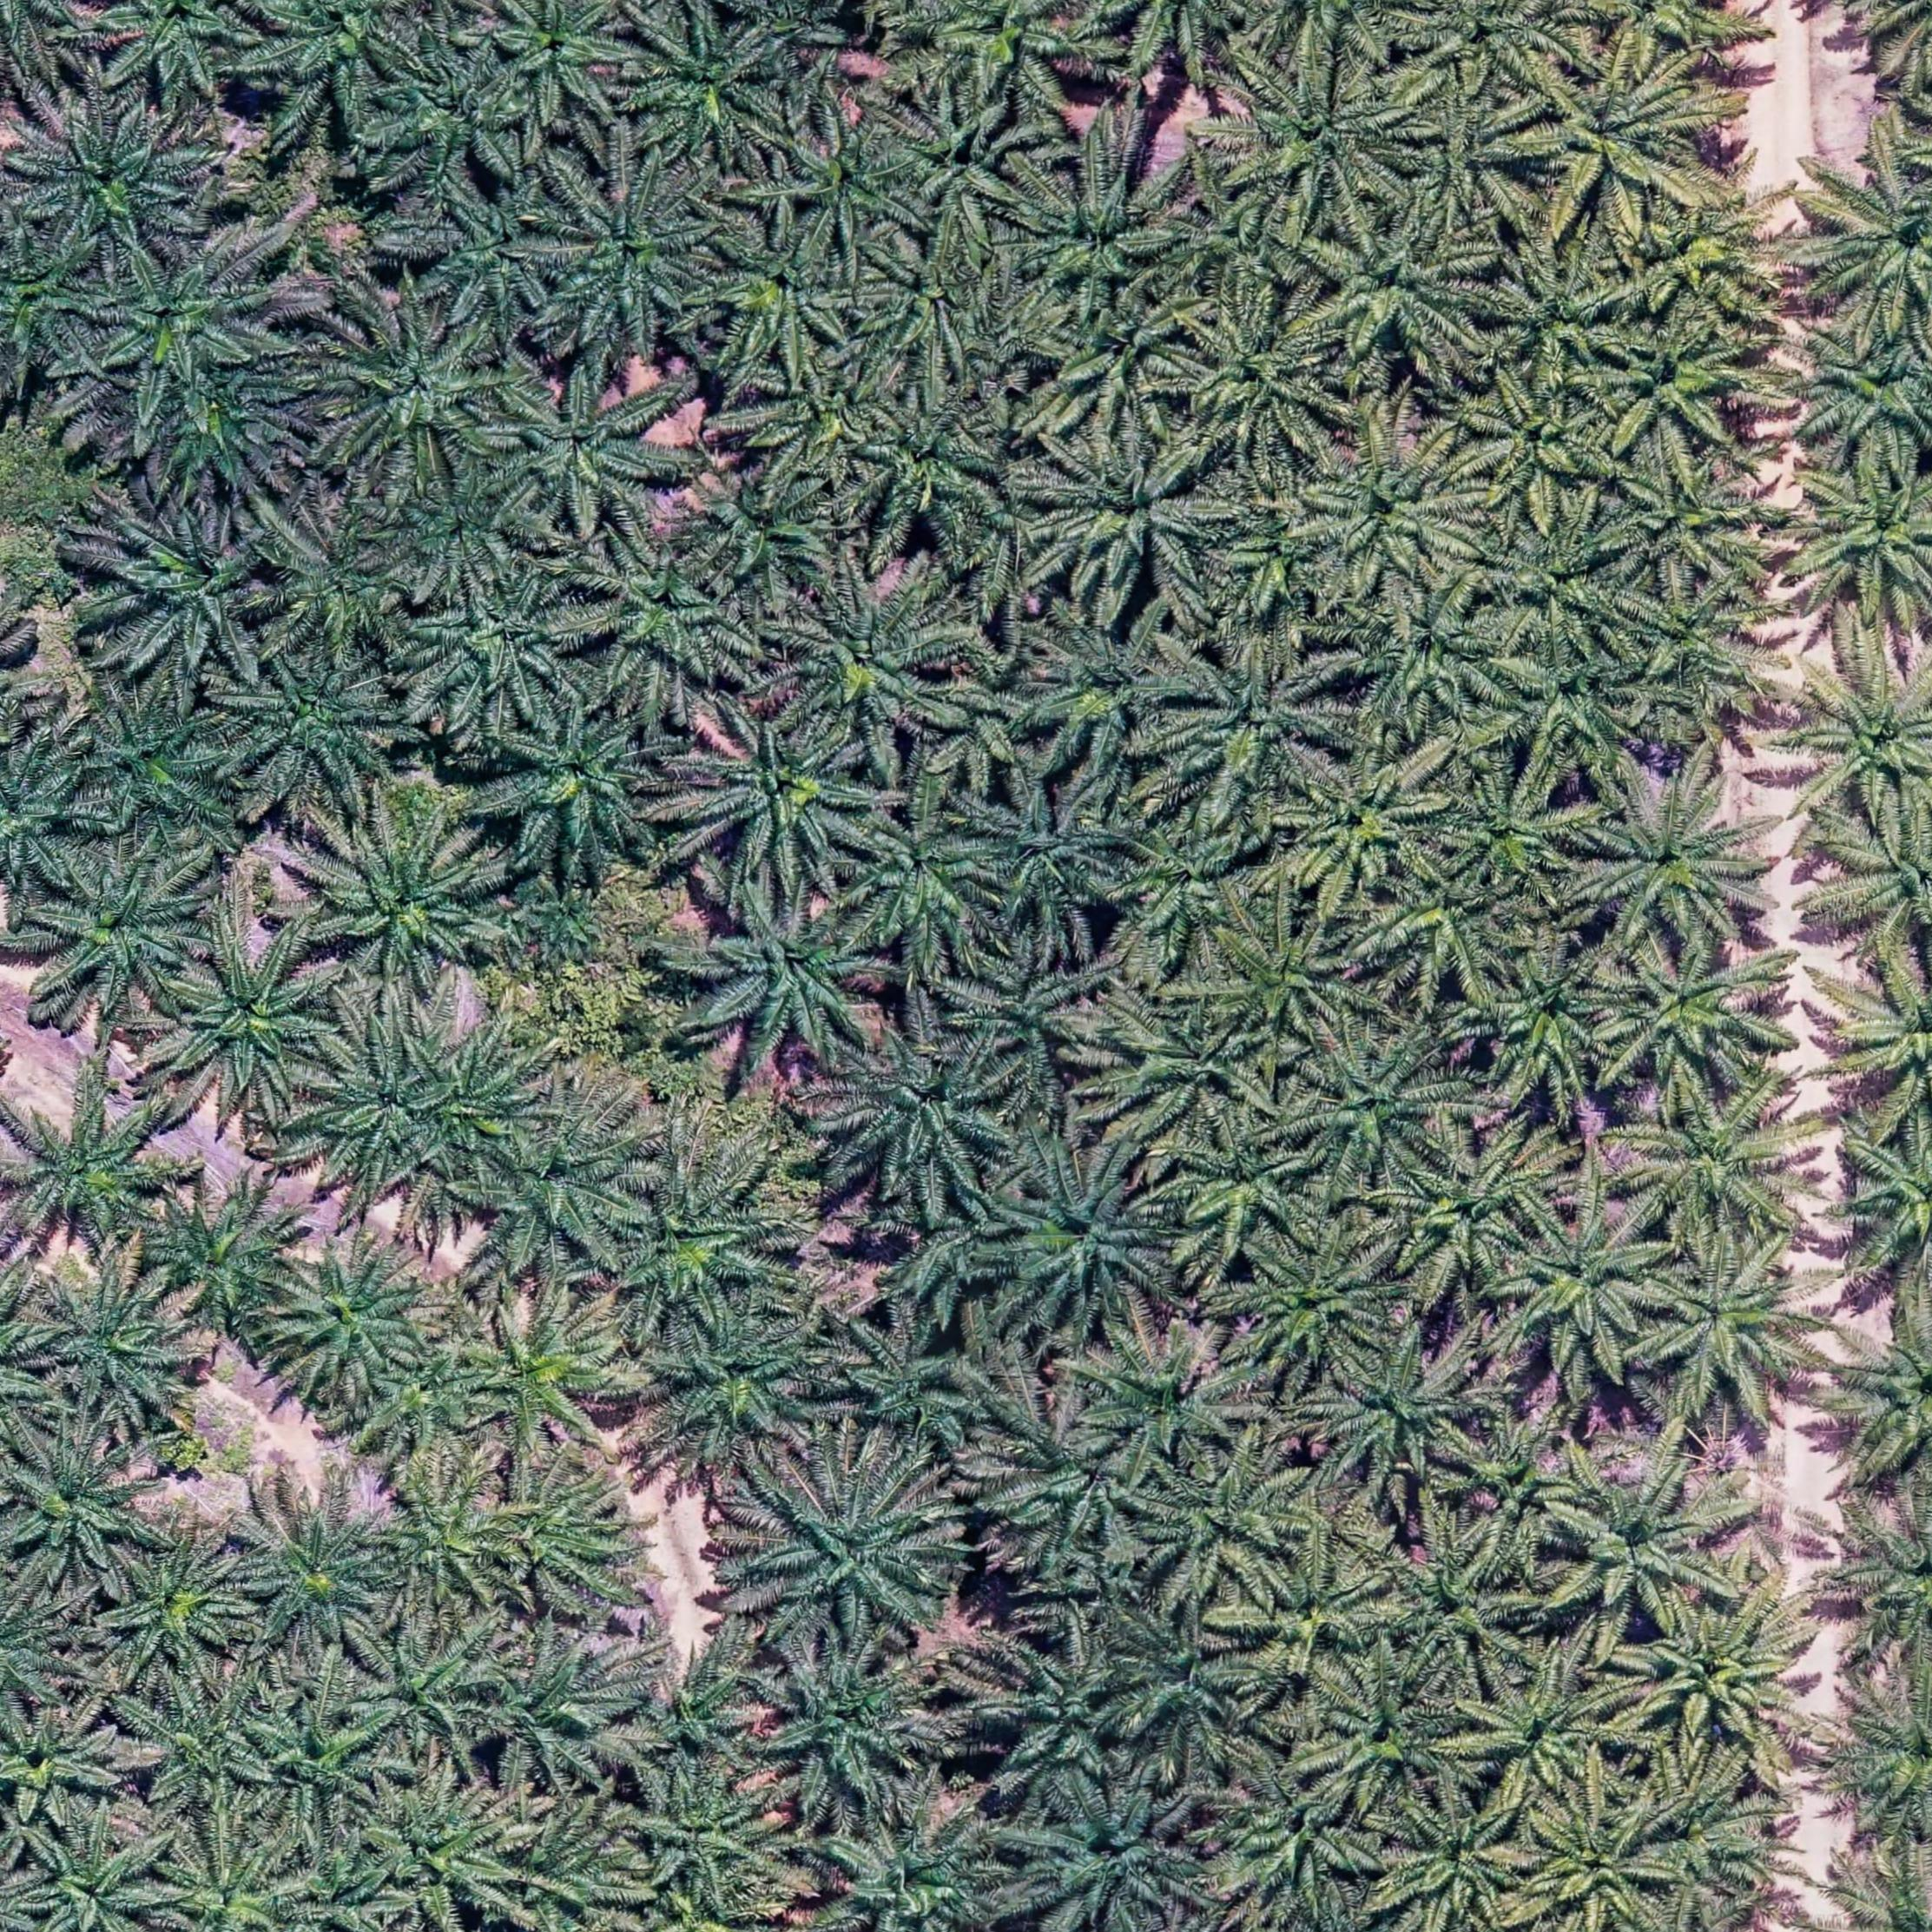palmtree: (311, 1003, 556, 1201), (741, 1453, 970, 1656), (1516, 35, 1718, 230), (1617, 1587, 1826, 1773), (984, 1146, 1184, 1339), (1635, 1235, 1836, 1426), (1621, 1074, 1826, 1253), (1582, 768, 1778, 954), (1221, 50, 1426, 225), (755, 1640, 954, 1821), (596, 1155, 794, 1334), (320, 303, 513, 485), (1028, 433, 1224, 610), (1491, 1192, 1679, 1376), (543, 166, 729, 350), (701, 885, 892, 1063), (317, 809, 510, 985), (403, 563, 603, 732), (1594, 929, 1790, 1100), (685, 704, 874, 881), (782, 568, 971, 741), (1161, 642, 1352, 814), (828, 1026, 1019, 1198), (485, 364, 678, 534), (487, 690, 674, 863), (1299, 423, 1483, 598), (646, 1300, 835, 1470), (1543, 1461, 1725, 1637), (19, 103, 211, 269), (1003, 1780, 1212, 1932), (1385, 1122, 1573, 1290), (980, 1398, 1169, 1564), (1309, 211, 1497, 377), (1330, 575, 1523, 736), (1005, 152, 1189, 320), (163, 934, 341, 1104), (1311, 1327, 1491, 1495), (1290, 1019, 1470, 1187), (1203, 1750, 1382, 1918), (1102, 1605, 1276, 1776), (458, 1297, 633, 1467), (980, 1635, 1150, 1810), (1175, 292, 1352, 460), (582, 536, 761, 702), (1134, 1442, 1315, 1605), (1376, 1522, 1548, 1691), (1465, 939, 1635, 1111), (108, 501, 281, 669), (1231, 1217, 1407, 1384), (1782, 642, 1932, 835), (1801, 120, 1932, 341), (1276, 745, 1456, 904), (1463, 1652, 1645, 1810), (1780, 449, 1932, 637), (948, 943, 1125, 1104), (1628, 172, 1803, 333), (1023, 603, 1191, 770), (1306, 1654, 1477, 1817), (1467, 510, 1640, 671), (1077, 1323, 1258, 1477), (1619, 573, 1789, 736), (1594, 308, 1769, 465), (99, 241, 281, 391), (968, 777, 1139, 936), (623, 1759, 801, 1911), (35, 858, 207, 1014), (230, 653, 403, 805), (472, 1122, 646, 1274), (235, 1495, 400, 1654), (472, 1635, 639, 1792), (816, 1805, 1021, 1932), (1387, 80, 1553, 235), (1491, 632, 1660, 786), (356, 1776, 529, 1925), (274, 1240, 439, 1396), (41, 1270, 200, 1430), (1605, 449, 1776, 596), (1371, 846, 1530, 1003), (1782, 311, 1932, 478), (699, 212, 856, 370), (851, 801, 1010, 957), (147, 1187, 313, 1336), (483, 1458, 639, 1615), (853, 382, 1005, 541), (1106, 810, 1267, 961), (1486, 241, 1649, 389), (12, 1097, 179, 1242), (839, 1316, 1005, 1461), (9, 1430, 168, 1580), (888, 83, 1037, 244), (1166, 1120, 1329, 1267), (1037, 292, 1201, 437), (1106, 996, 1276, 1136), (766, 104, 916, 262), (633, 14, 789, 165), (1208, 906, 1371, 1049), (1520, 1790, 1683, 1932), (103, 1536, 258, 1683), (1384, 1785, 1541, 1928), (375, 48, 533, 191), (373, 1461, 525, 1608), (423, 188, 579, 329), (147, 363, 303, 504), (862, 237, 1003, 393), (1822, 941, 1932, 1141), (906, 0, 1097, 113), (690, 464, 846, 602), (352, 1622, 508, 1760), (1461, 370, 1610, 513), (748, 349, 899, 490), (1438, 766, 1596, 901), (1640, 1750, 1780, 1900), (76, 695, 232, 830), (617, 1642, 773, 1776), (133, 1675, 285, 1812), (265, 511, 416, 648), (1826, 1300, 1932, 1493), (1238, 1550, 1399, 1675), (391, 462, 541, 594), (1819, 1674, 1932, 1849), (1449, 1414, 1589, 1553), (481, 0, 635, 124), (361, 1329, 502, 1463), (1828, 1495, 1932, 1675), (1821, 793, 1932, 959), (249, 1707, 395, 1835), (1168, 188, 1322, 306), (255, 0, 418, 111), (506, 1810, 655, 1932), (931, 642, 1063, 778), (101, 0, 274, 103), (869, 1203, 1012, 1327), (23, 1829, 175, 1932), (0, 232, 106, 377), (1217, 499, 1343, 621), (1849, 1113, 1932, 1297), (0, 748, 97, 904), (152, 1840, 317, 1932), (0, 1702, 122, 1822), (1445, 0, 1585, 99), (511, 874, 632, 973), (0, 1258, 60, 1454), (0, 1569, 80, 1713), (288, 1849, 407, 1932), (1828, 1851, 1932, 1932)
